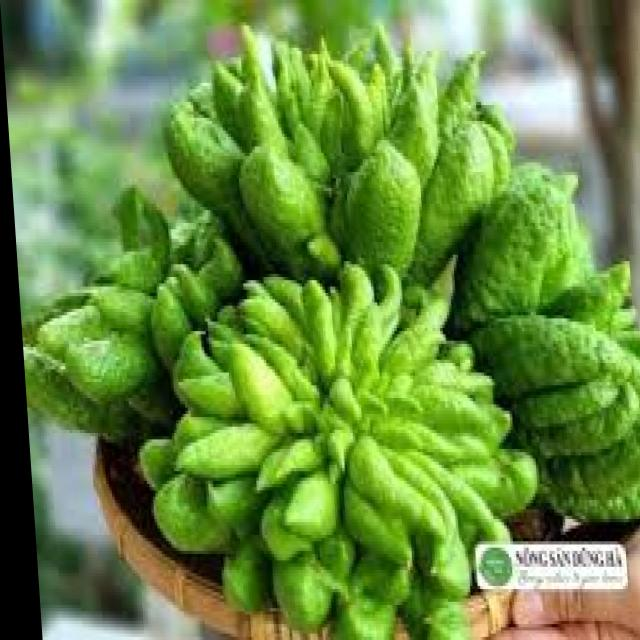PhatThu: (154, 284, 525, 632), (157, 24, 496, 301), (453, 155, 640, 524), (13, 189, 245, 436)
